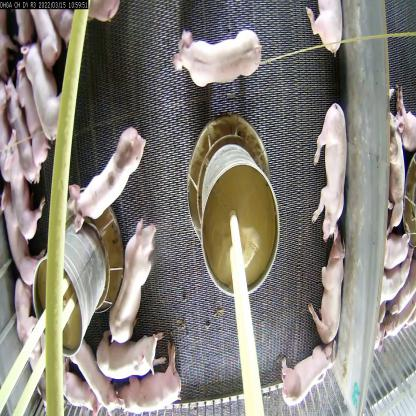Pig: (66, 124, 151, 232), (170, 19, 264, 100), (106, 225, 159, 344), (310, 101, 348, 246), (0, 190, 47, 295), (14, 42, 63, 137), (62, 321, 115, 408), (276, 340, 338, 406), (312, 233, 346, 350), (114, 363, 189, 416), (99, 317, 160, 381), (11, 78, 50, 166)
